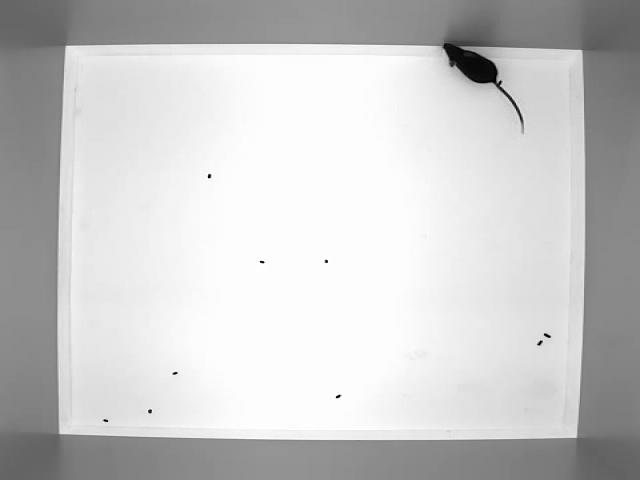Tikus: (438, 37, 531, 137)
